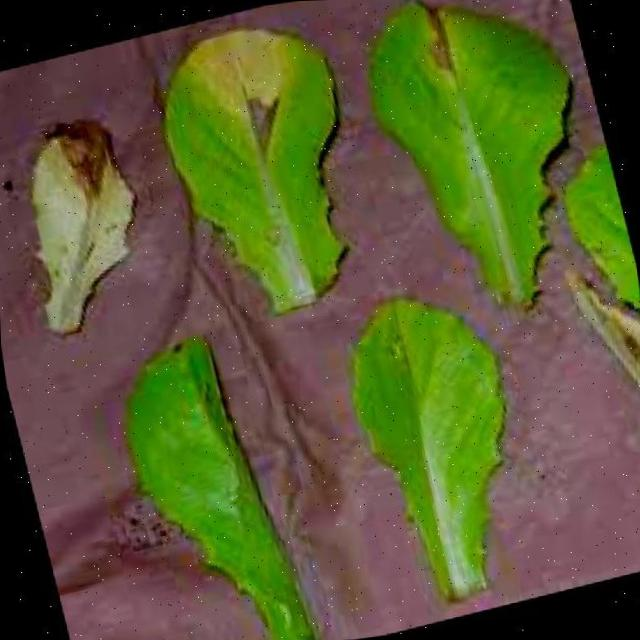Downy_Mildew: (0, 121, 151, 338), (182, 43, 318, 209)
